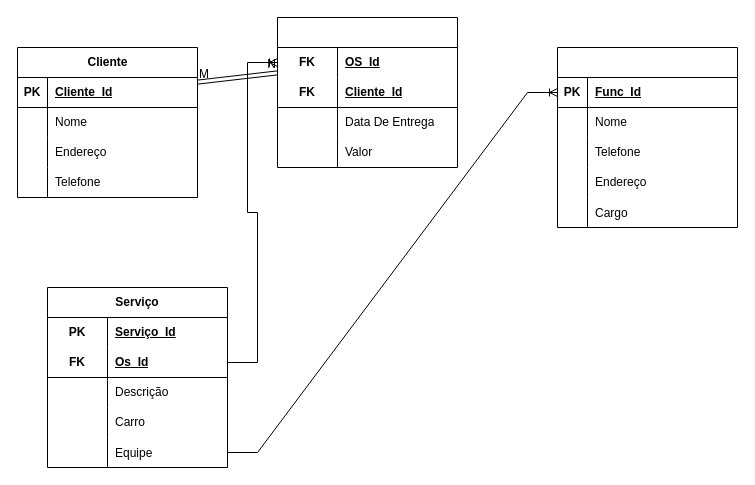
Some shapes in this 755 by 485 pixel diagram are drawn without their labels. The shapes that lost their labels are listed below. From the top down, each one's box as (x1, y1, x2, y2) in pixels, then its label:
(276, 16, 458, 168): Ordem de serviço
(556, 46, 738, 228): Funcionários
